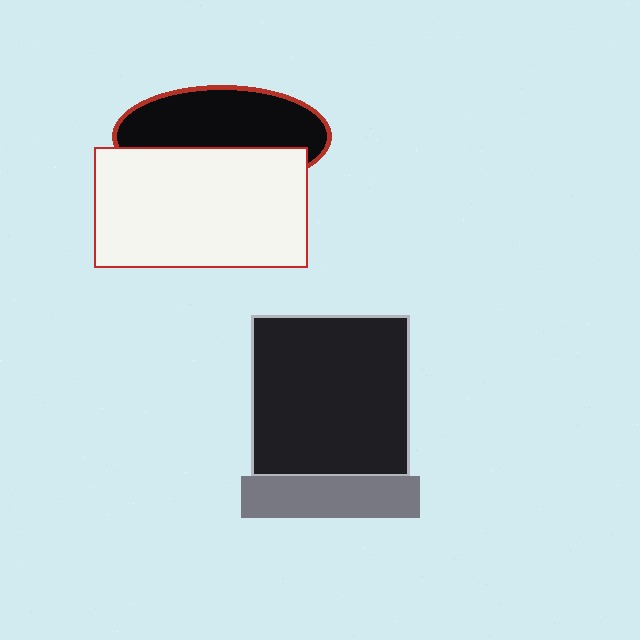book: (94, 147, 307, 267)
laptop: (251, 315, 409, 517)
open_manhole: (112, 85, 331, 187)
